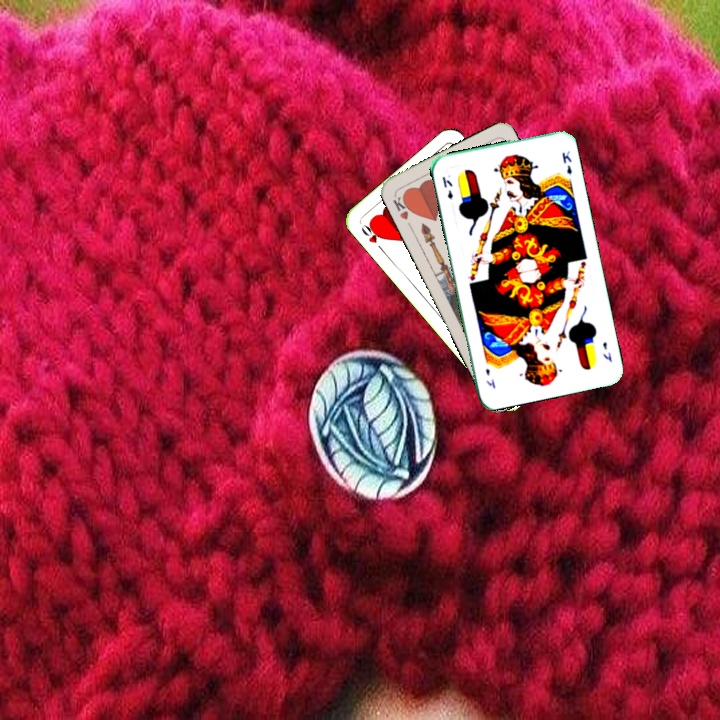EK: (438, 173, 455, 202), (599, 338, 614, 365)
HK: (389, 190, 415, 222)
HO: (357, 219, 386, 254)
